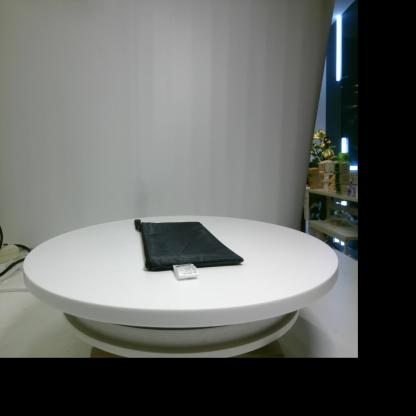Stationery: (134, 220, 244, 279)
